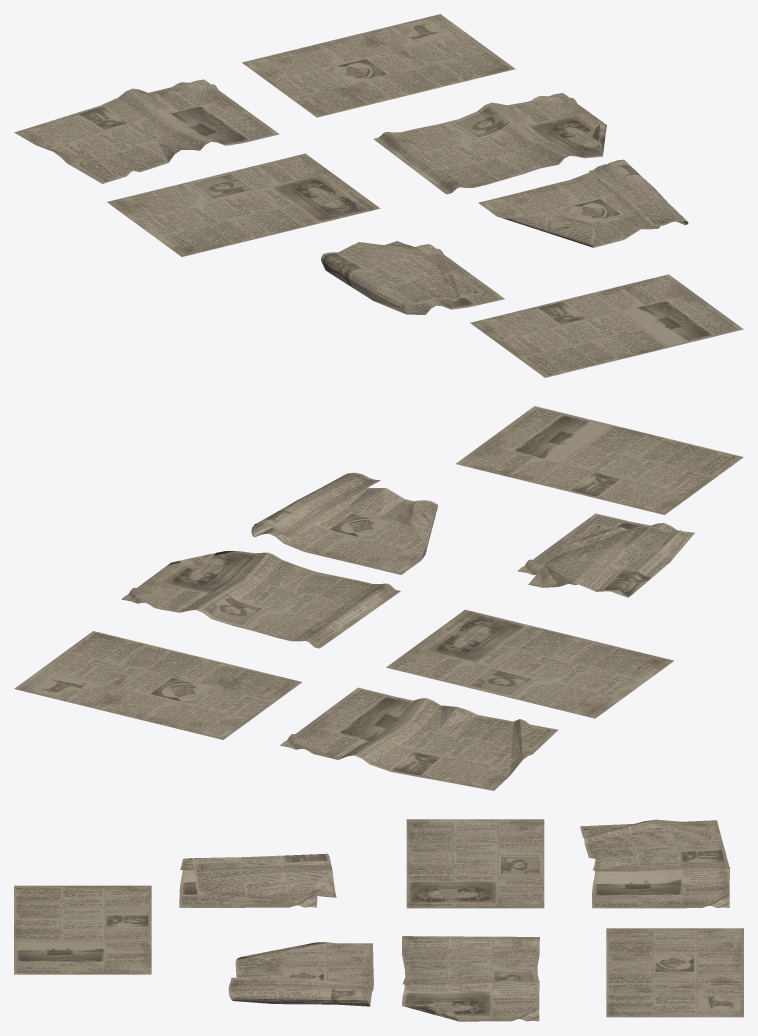
The picture shows the model from 3 angles, top to bottom: view 1: azimuth 30°, elevation 25°; view 2: azimuth 150°, elevation 25°; view 3: azimuth 270°, elevation 25°; orthographic projection. The views are drawn at different scales.
Visible parts, largest first — view 1: 1234_SM_Newspaper02_mo, 1234_SM_Newspaper01_mo, 1234_SM_Newspaper03_mo, 1234_SM_Newspaper04_mo, 1234_SM_Newspaper06_mo, 1234_SM_Newspaper05_mo, 1234_SM_Newspaper07_mo; view 2: 1234_SM_Newspaper03_mo, 1234_SM_Newspaper02_mo, 1234_SM_Newspaper01_mo, 1234_SM_Newspaper04_mo, 1234_SM_Newspaper06_mo, 1234_SM_Newspaper05_mo, 1234_SM_Newspaper07_mo; view 3: 1234_SM_Newspaper03_mo, 1234_SM_Newspaper02_mo, 1234_SM_Newspaper01_mo, 1234_SM_Newspaper04_mo, 1234_SM_Newspaper06_mo, 1234_SM_Newspaper05_mo, 1234_SM_Newspaper07_mo.
Part boxes in pixels (<box>): 1234_SM_Newspaper02_mo: <box>242,14,515,117</box>; 1234_SM_Newspaper01_mo: <box>470,274,743,377</box>; 1234_SM_Newspaper03_mo: <box>107,153,380,256</box>; 1234_SM_Newspaper04_mo: <box>14,79,279,183</box>; 1234_SM_Newspaper06_mo: <box>373,93,606,194</box>; 1234_SM_Newspaper05_mo: <box>478,159,688,247</box>; 1234_SM_Newspaper07_mo: <box>321,241,504,314</box>; 1234_SM_Newspaper03_mo: <box>386,609,673,718</box>; 1234_SM_Newspaper02_mo: <box>14,631,301,739</box>; 1234_SM_Newspaper01_mo: <box>456,406,743,514</box>; 1234_SM_Newspaper04_mo: <box>280,687,558,790</box>; 1234_SM_Newspaper06_mo: <box>121,551,400,648</box>; 1234_SM_Newspaper05_mo: <box>251,472,437,574</box>; 1234_SM_Newspaper07_mo: <box>517,513,694,597</box>; 1234_SM_Newspaper03_mo: <box>406,819,544,908</box>; 1234_SM_Newspaper02_mo: <box>606,928,743,1017</box>; 1234_SM_Newspaper01_mo: <box>14,885,151,974</box>; 1234_SM_Newspaper04_mo: <box>580,819,729,908</box>; 1234_SM_Newspaper06_mo: <box>401,936,539,1021</box>; 1234_SM_Newspaper05_mo: <box>228,942,373,1006</box>; 1234_SM_Newspaper07_mo: <box>179,853,336,907</box>.
Bounding box in the file's own units: 200 × 6.39 × 305.
7 materials, 7 textured.
